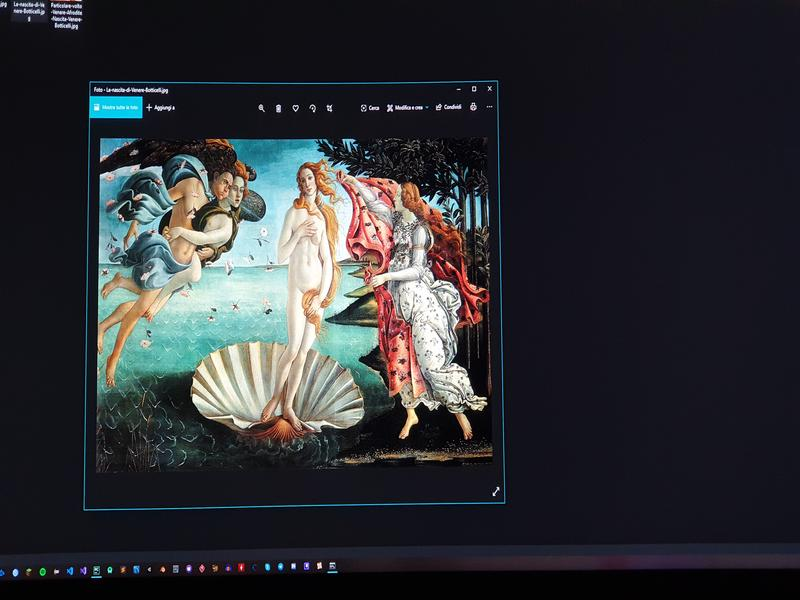Venere: (96, 134, 493, 477)
